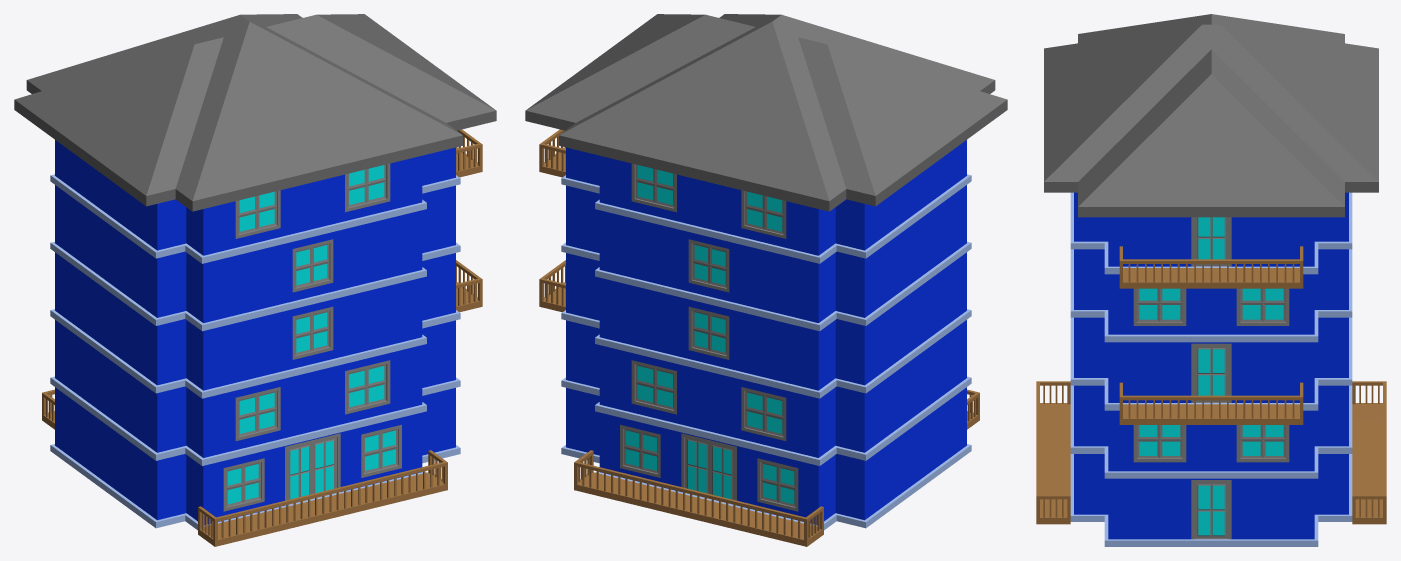
File: building5.fbx
3 renders of one model, left to right at view 1: azimuth 30°, elevation 25°; view 2: azimuth 150°, elevation 25°; view 3: azimuth 270°, elevation 25°, orthographic.
Parts seen in each view (by area): view 1: building5; view 2: building5; view 3: building5.
Boxes of the visible parts, x1,y1,x2,y2 form: building5: (14,14,496,546); building5: (525,14,1007,546); building5: (1036,14,1386,546).
Bounding box in the file's own units: 1218 × 1426 × 1024.
